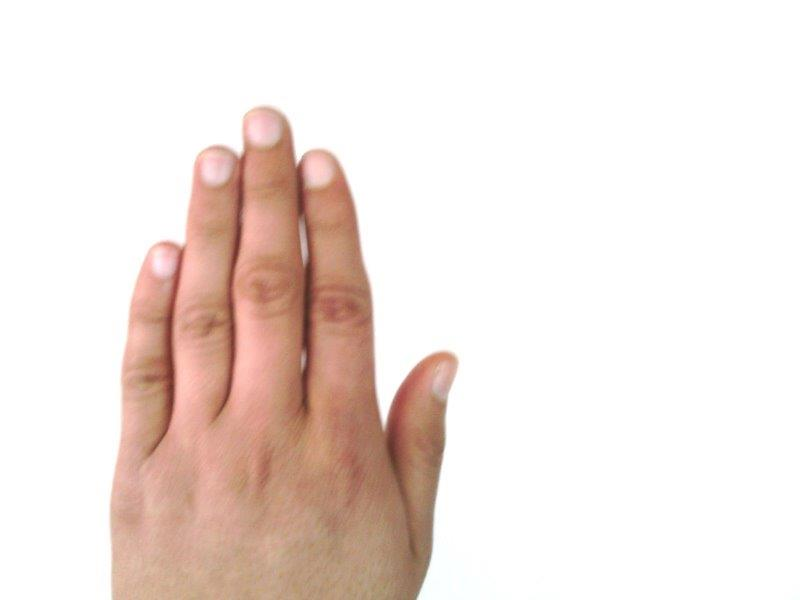hand: (112, 106, 457, 597)
